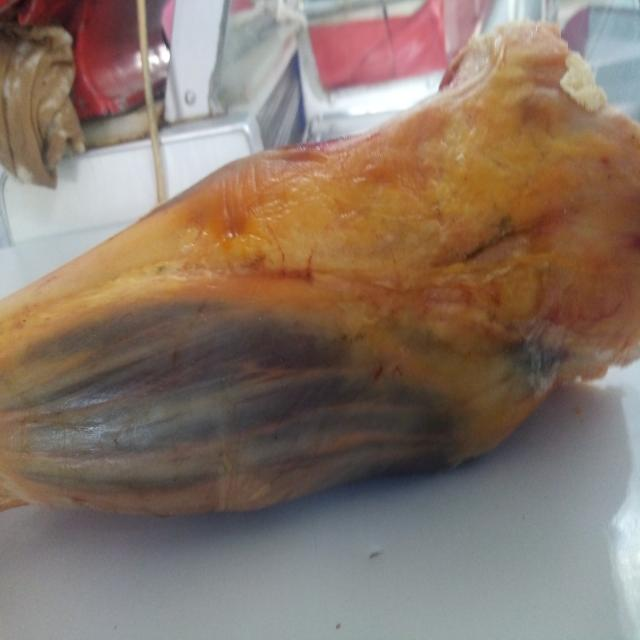Beef: (20, 20, 640, 535)
